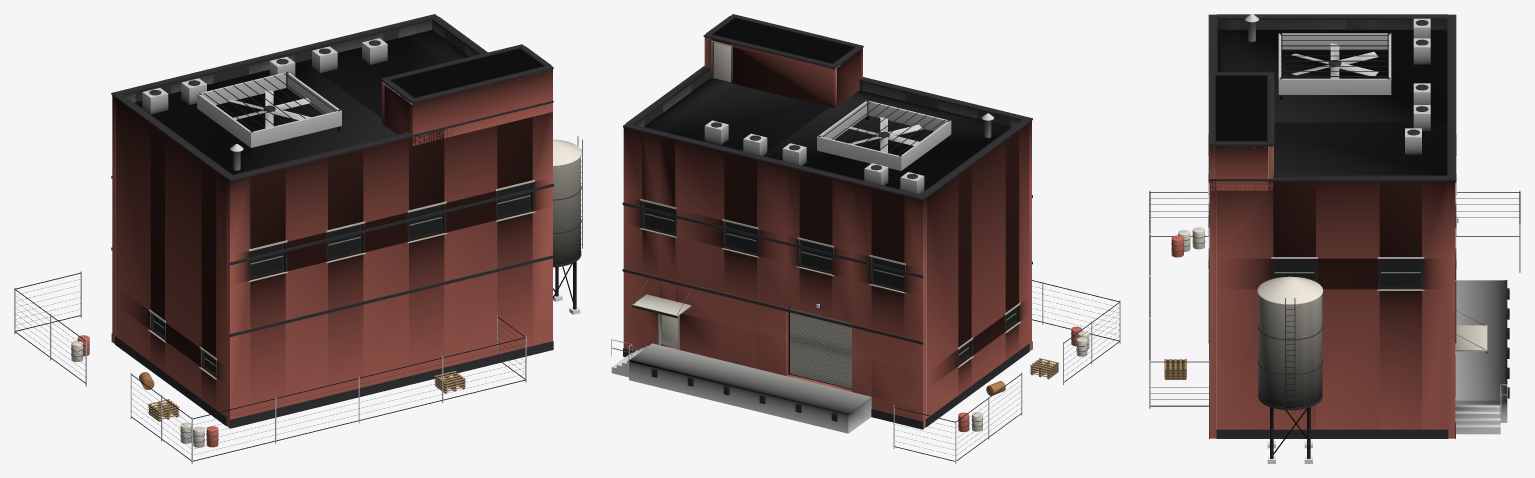
Rendered from factory1.glb.
3 renders of one model, left to right at view 1: azimuth 30°, elevation 25°; view 2: azimuth 150°, elevation 25°; view 3: azimuth 270°, elevation 25°, orthographic. The views are drawn at different scales.
Visible parts, largest first — view 1: PART, N_spin_fan; view 2: PART, N_spin_fan, DOOR_roof; view 3: PART, N_spin_fan.
Part boxes in pixels (x1,y1,x2,y2): PART: [14, 14, 582, 463]; N_spin_fan: [228, 90, 310, 128]; PART: [611, 14, 1120, 463]; N_spin_fan: [845, 117, 922, 152]; DOOR_roof: [714, 42, 730, 81]; PART: [1149, 14, 1520, 463]; N_spin_fan: [1291, 43, 1378, 78].
Bounding box in the file's own units: 25.82 × 15.3 × 17.46.
